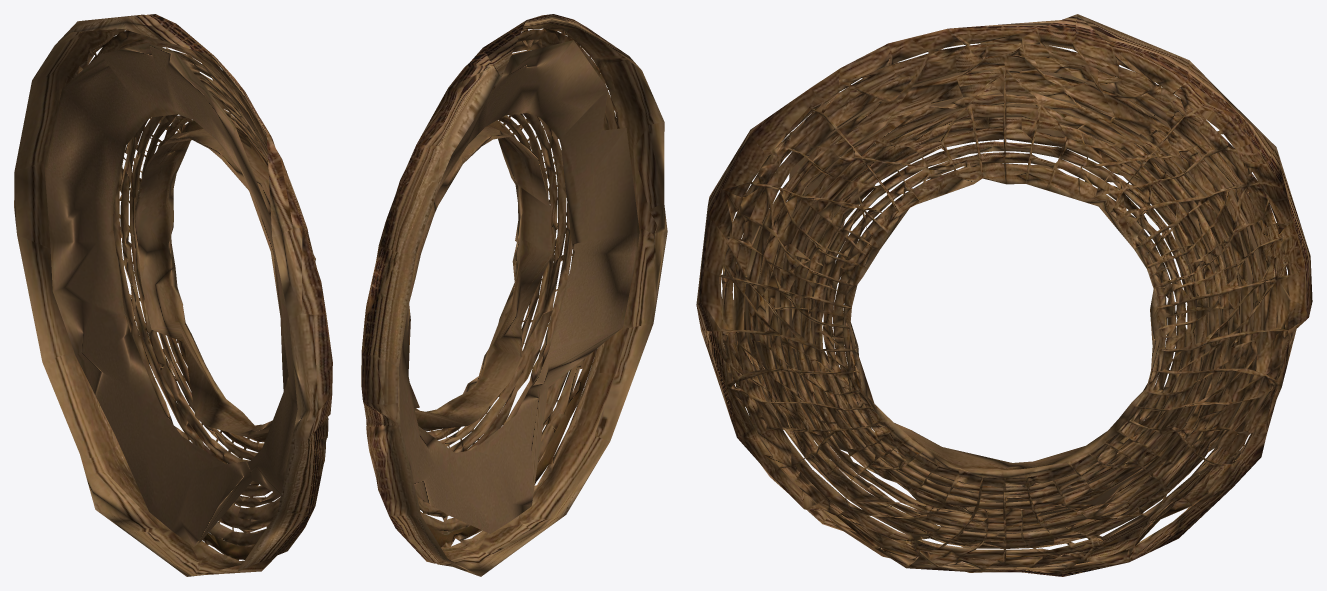
The model's file is art_ring_lod1.glb.
3 views of the same model, side by side, from view 1: azimuth 30°, elevation 25°; view 2: azimuth 150°, elevation 25°; view 3: azimuth 270°, elevation 25° (orthographic). The views are drawn at different scales.
Parts seen in each view (by area): view 1: tripo_node_e8bf0414-7faf-4a59-957a-ba86b8dec961; view 2: tripo_node_e8bf0414-7faf-4a59-957a-ba86b8dec961; view 3: tripo_node_e8bf0414-7faf-4a59-957a-ba86b8dec961.
Part boxes in pixels (<box>): tripo_node_e8bf0414-7faf-4a59-957a-ba86b8dec961: <box>14,14,332,576</box>; tripo_node_e8bf0414-7faf-4a59-957a-ba86b8dec961: <box>361,14,667,576</box>; tripo_node_e8bf0414-7faf-4a59-957a-ba86b8dec961: <box>696,14,1312,576</box>.
Size of the model in its own units: 0.1099 by 0.5879 by 0.5936.
1 material, 1 textured.
